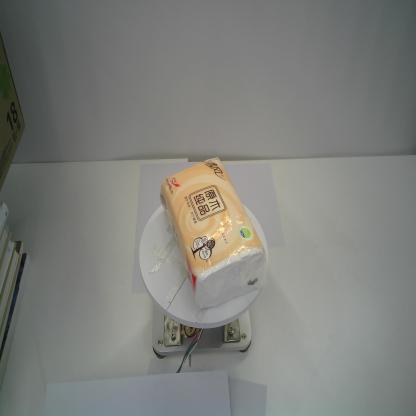Tissue: (159, 156, 268, 310)
